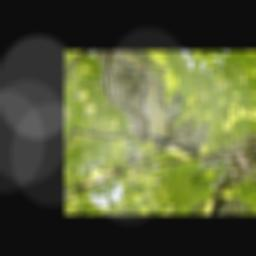Cuckoo: (97, 78, 193, 171)
